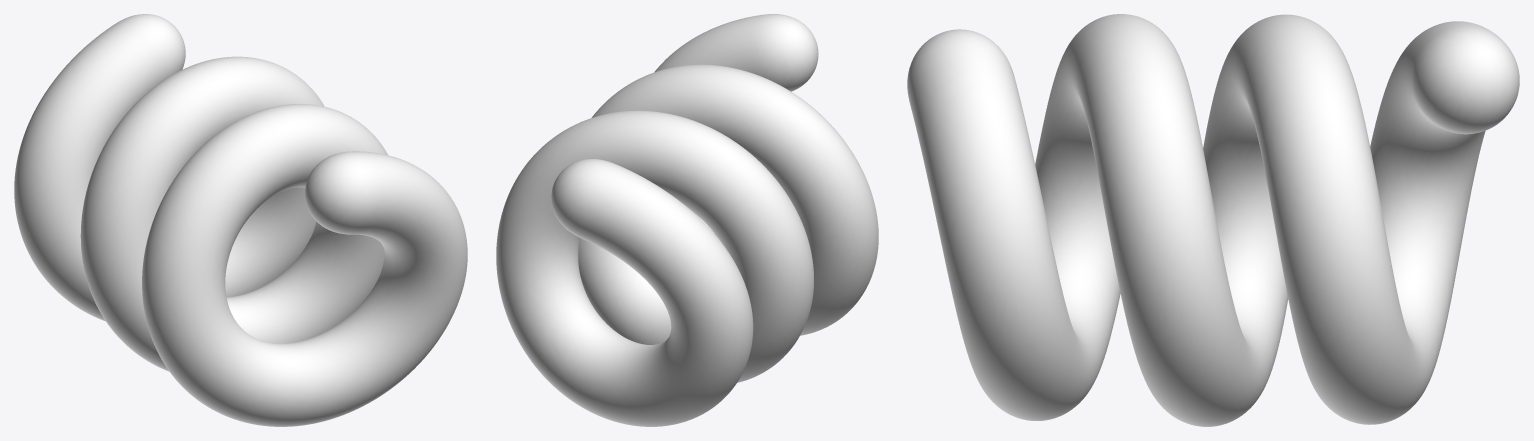
The picture shows the model from 3 angles, left to right: view 1: azimuth 30°, elevation 25°; view 2: azimuth 150°, elevation 25°; view 3: azimuth 270°, elevation 25°; orthographic projection. The views are drawn at different scales.
Visible parts, largest first — view 1: helix; view 2: helix; view 3: helix.
Boxes of the visible parts, x1=… form: helix: x1=14, y1=14, x2=467, y2=426; helix: x1=496, y1=14, x2=878, y2=426; helix: x1=907, y1=14, x2=1519, y2=426.
Bounding box in the file's own units: 172 × 170 × 250.
1 material, 1 textured.
